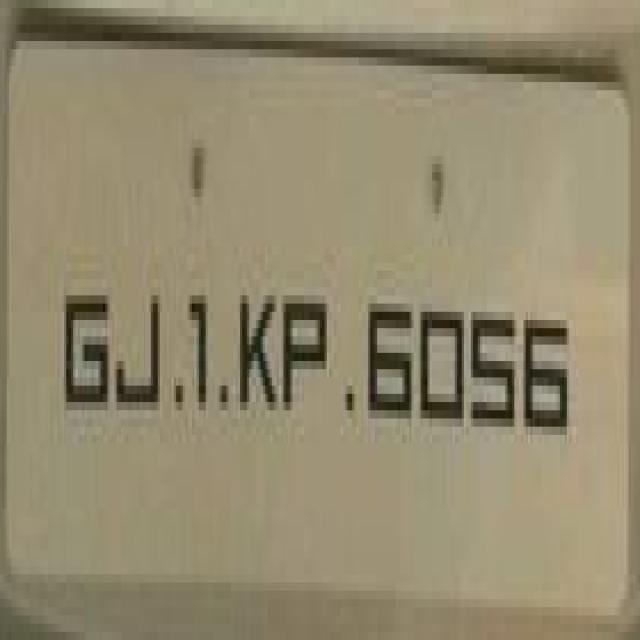license_plate: (0, 16, 617, 591)
